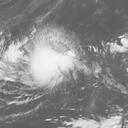cyclone: (30, 40, 79, 87)
